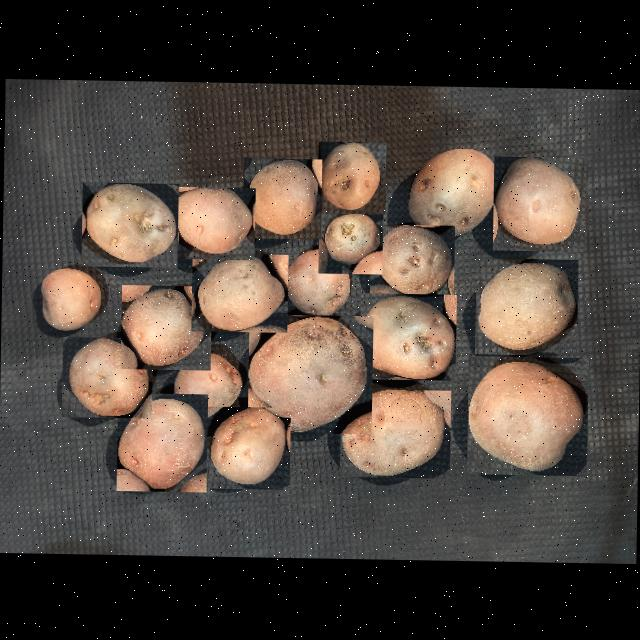Diseased-fungal potato: (246, 313, 372, 433), (466, 354, 588, 474), (473, 256, 578, 355), (338, 388, 450, 478), (404, 143, 501, 240), (491, 154, 585, 252), (115, 391, 207, 491), (358, 292, 455, 379), (80, 180, 177, 266), (190, 252, 287, 332), (120, 284, 210, 369), (60, 335, 152, 418), (200, 404, 290, 488), (242, 157, 321, 238), (368, 223, 454, 296), (169, 186, 254, 258), (276, 246, 355, 318), (316, 140, 385, 213), (167, 349, 241, 417), (33, 262, 100, 330), (317, 206, 382, 273)
